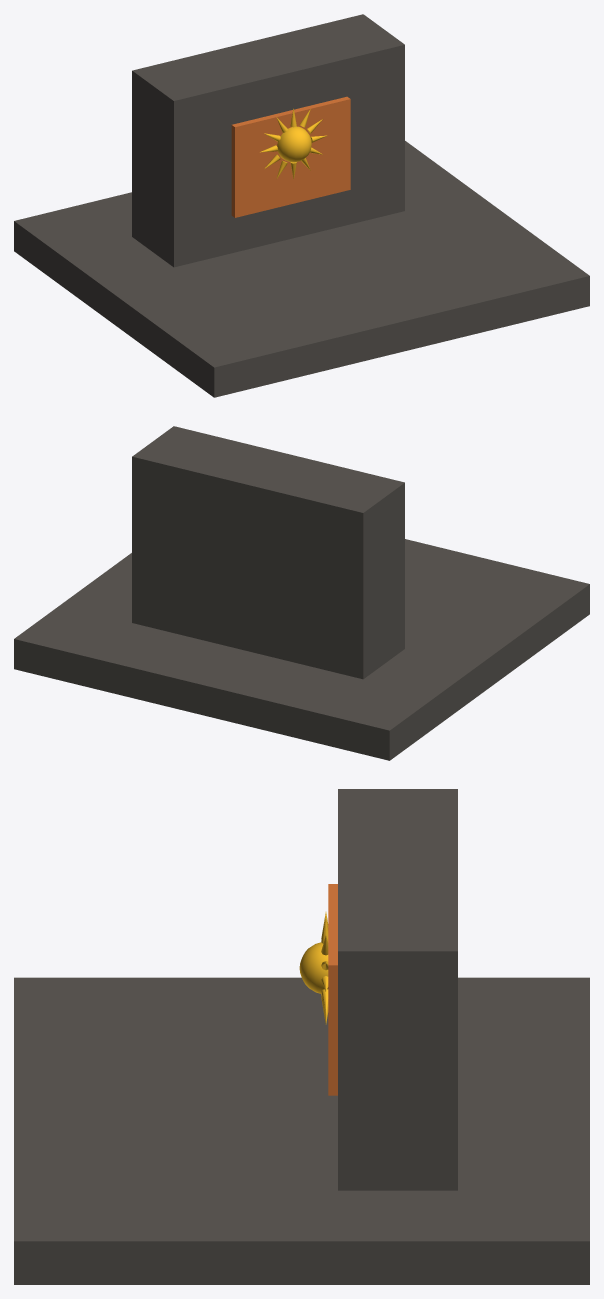
Rendered from tanbaly.glb.
3 views of the same model, one above another, from view 1: azimuth 30°, elevation 25°; view 2: azimuth 150°, elevation 25°; view 3: azimuth 270°, elevation 25° (orthographic). The views are drawn at different scales.
Bounding box in the file's own units: 26 × 13 × 24.
